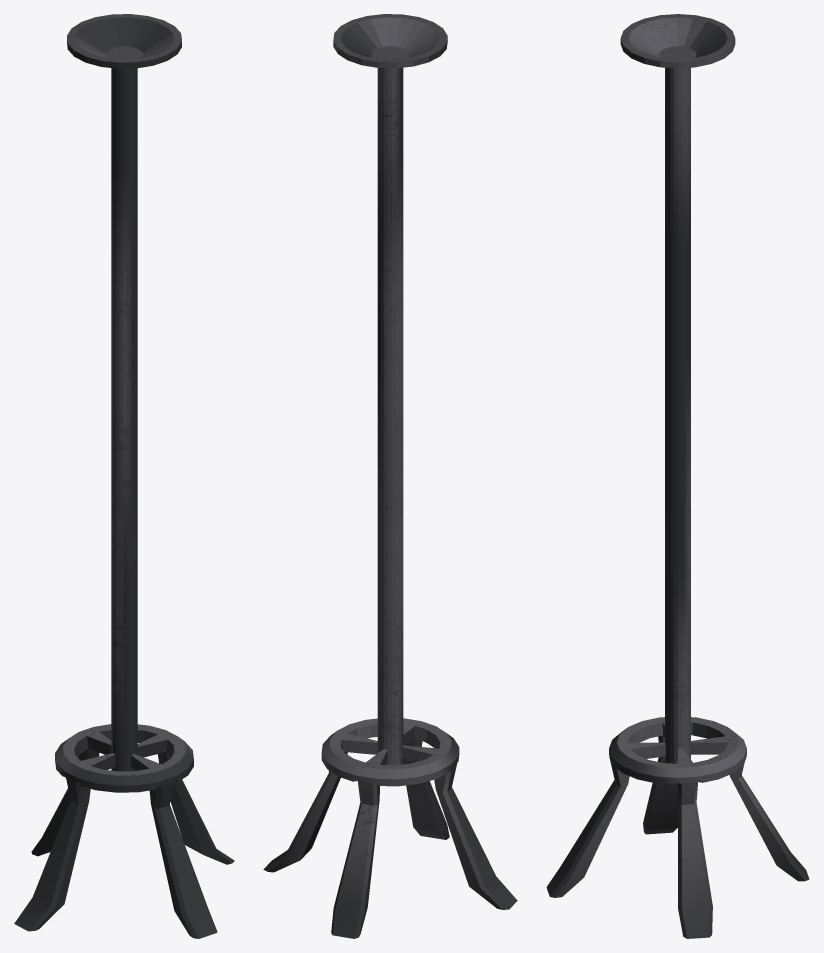
File: candlestand.fbx
3 renders of one model, left to right at view 1: azimuth 30°, elevation 25°; view 2: azimuth 150°, elevation 25°; view 3: azimuth 270°, elevation 25°, orthographic.
Visible parts, largest first — view 1: Candlestand; view 2: Candlestand; view 3: Candlestand.
Boxes of the visible parts, x1,y1,x2,y2 form: Candlestand: (14,14,234,938); Candlestand: (263,14,517,938); Candlestand: (546,14,809,938).
Size of the model in its own units: 1.78 by 6.31 by 1.78.
